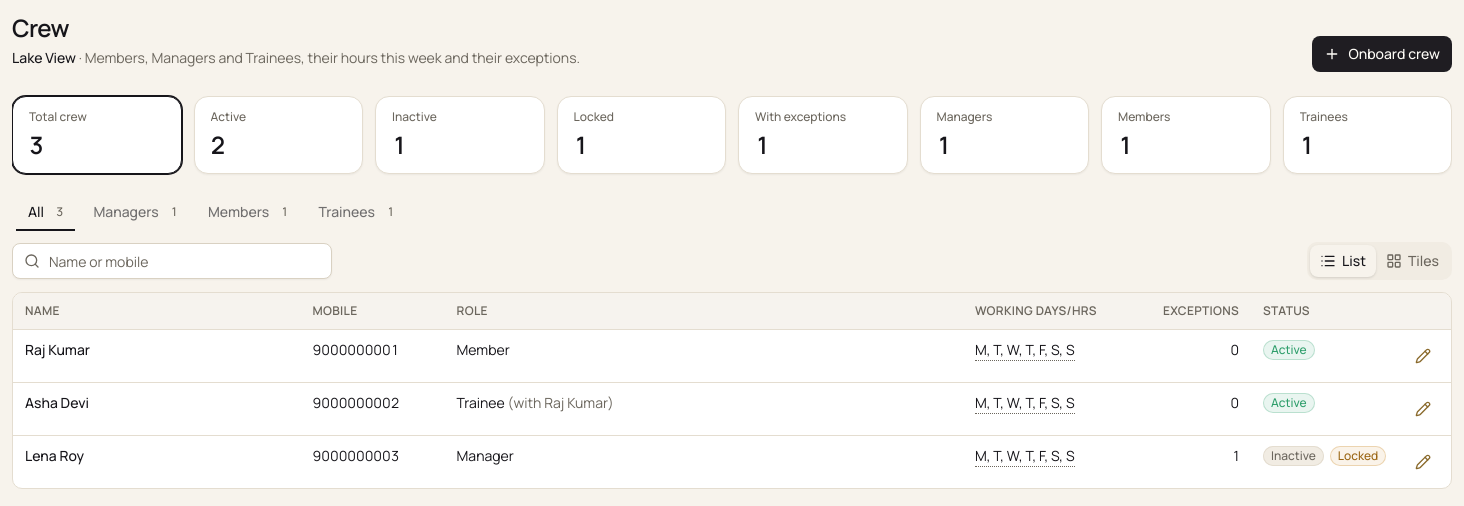
crew list › counts crew in tiles, filters from a tile and shows the crew as tiles
This screenshot has width=1464, height=506.
Expected: the button with aria-label "Total crew: 3" is shown, [12,96,182,174]
Expected: the button with aria-label "With exceptions: 1" is shown, [738,96,908,174]
Click the button with aria-label "Inactive: 1" at (460, 135), box [375,96,544,174]
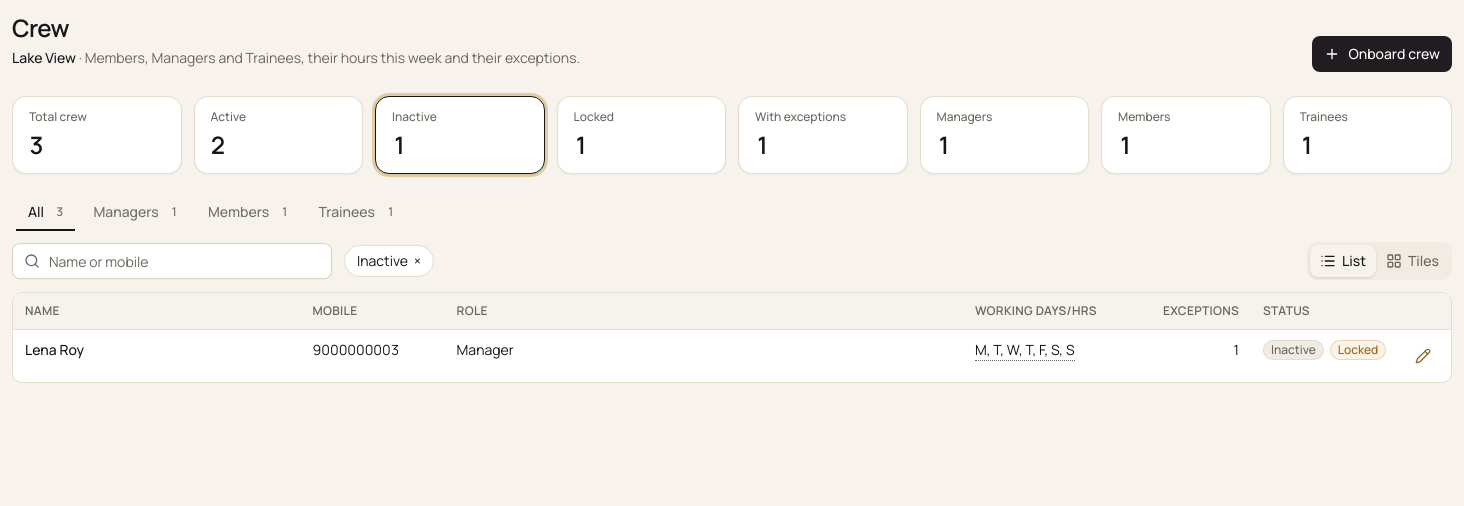
Expected: the link "Lena Roy" is shown, [25,340,84,358]
Expected: the link "Raj Kumar" is gone
Click the button with aria-label "Inactive: 1" at (460, 135), box [375,96,544,174]
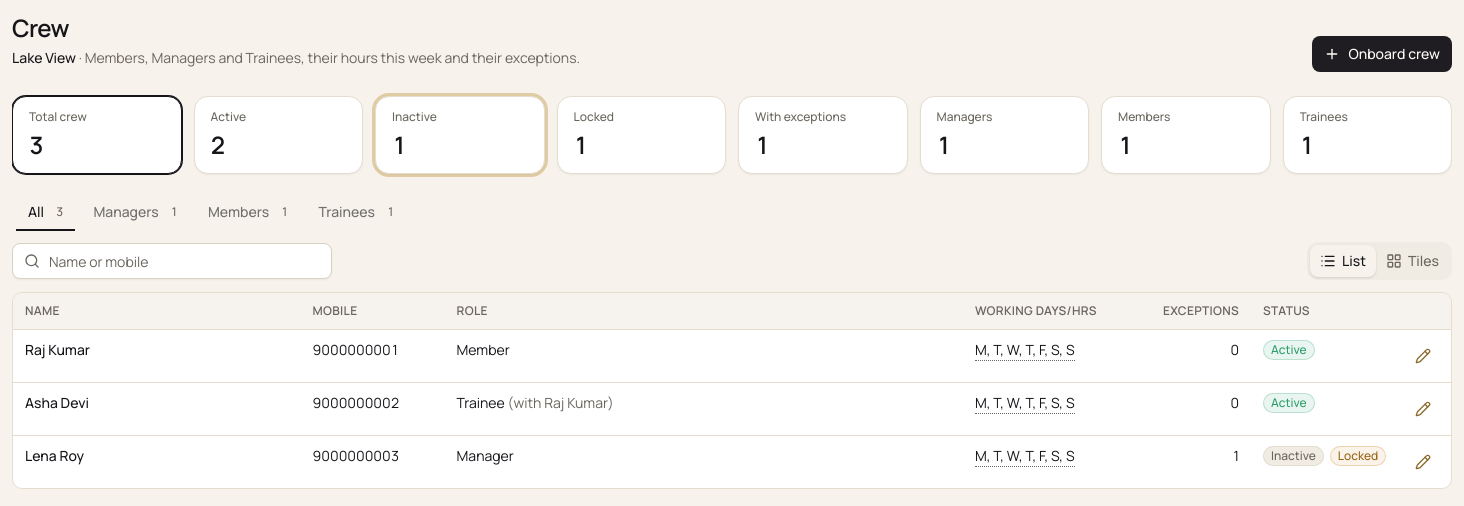
Expected: the link "Raj Kumar" is shown, [25,340,90,358]
Click the button "Tiles" at (1412, 261), box [1376,245,1449,277]
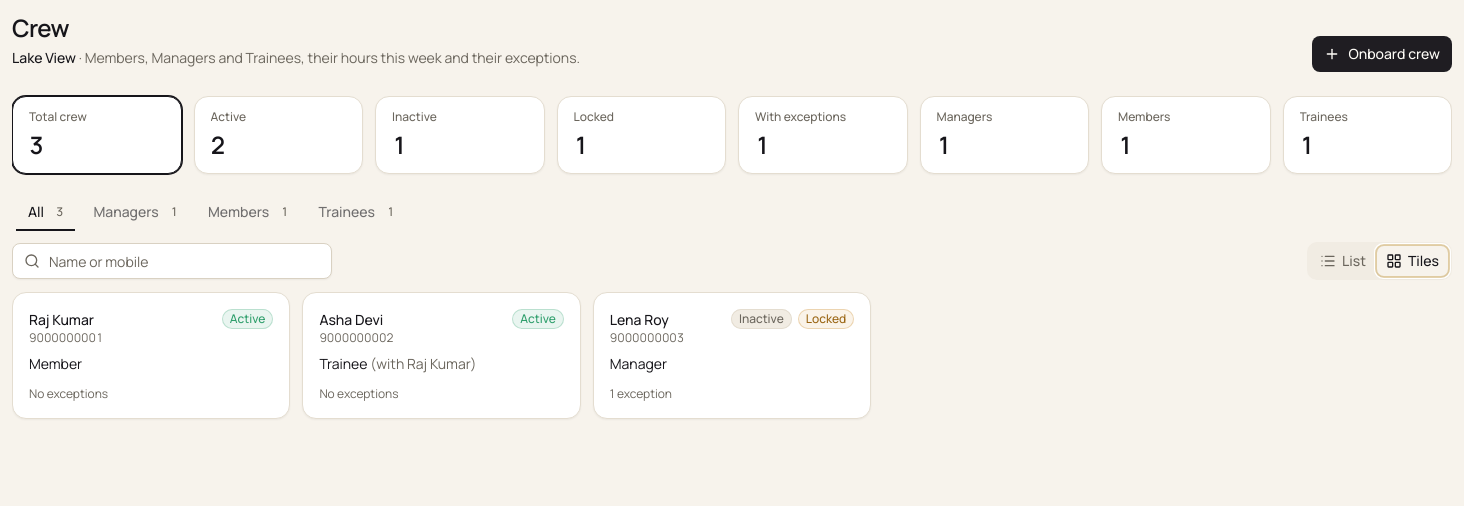
Expected: the table is gone
Click the tab "Managers 1" at (136, 212), box [80,198,191,226]
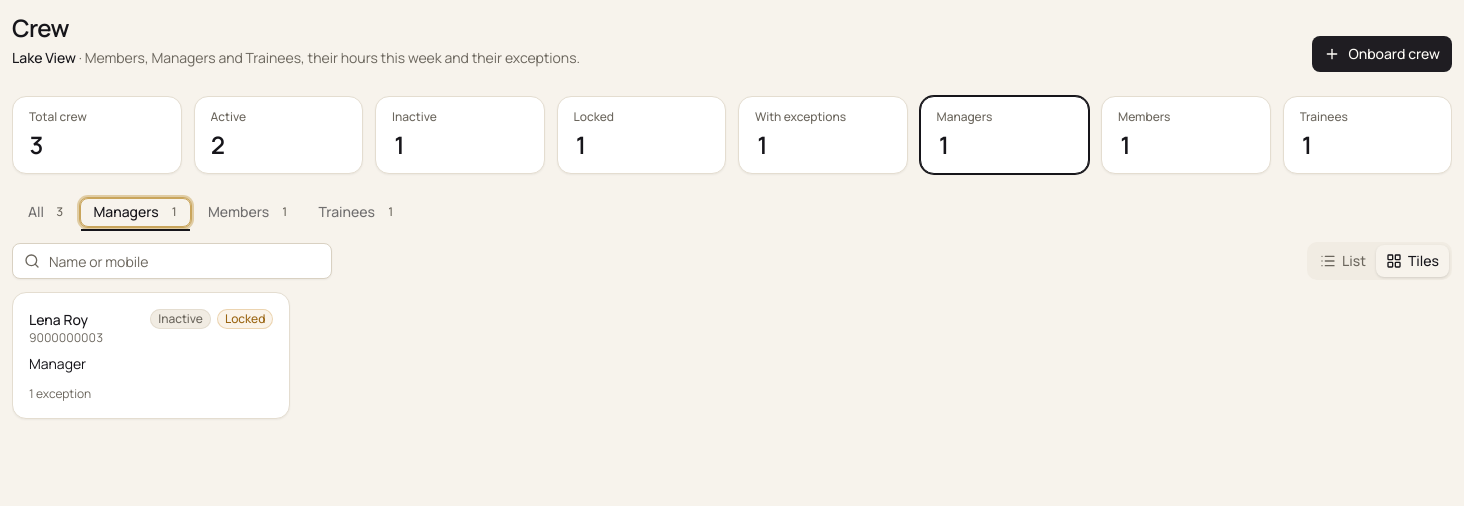
Expected: the text "Lena Roy" is shown, [29,310,88,329]
Expected: the button "Raj Kumar" is gone
